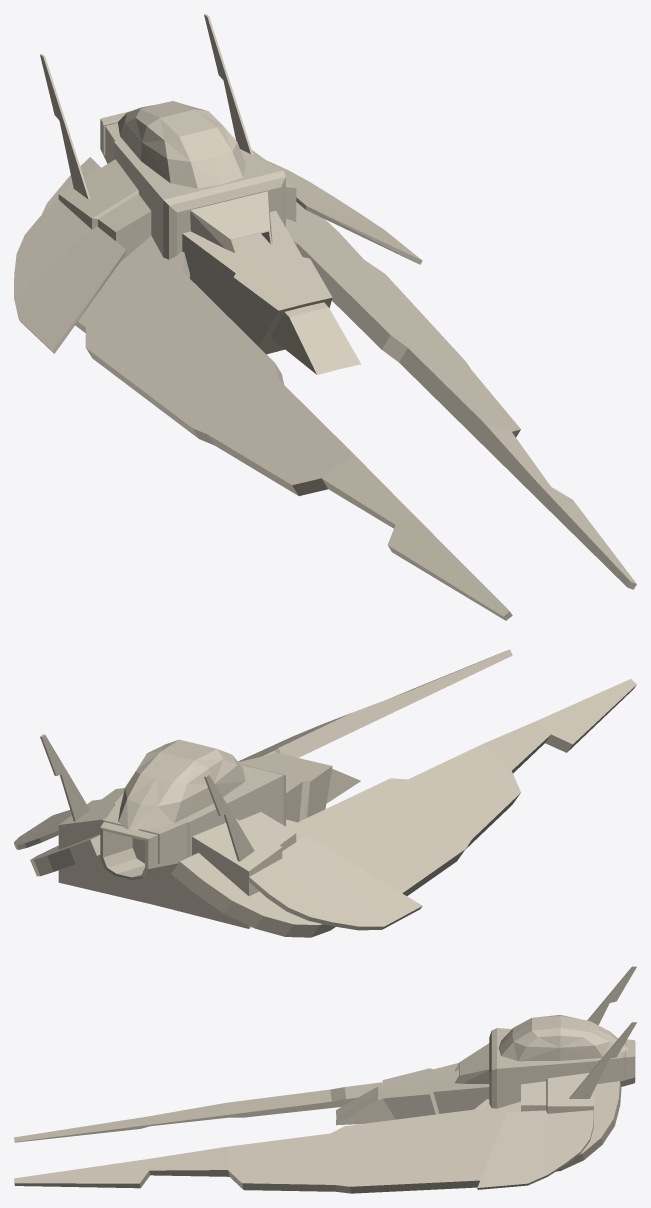
File: ship_dispatcher.glb
The picture shows the model from 3 angles, top to bottom: view 1: azimuth 30°, elevation 25°; view 2: azimuth 150°, elevation 25°; view 3: azimuth 270°, elevation 25°; orthographic projection. The views are drawn at different scales.
Parts seen in each view (by area): view 1: S_Dispatcher; view 2: S_Dispatcher; view 3: S_Dispatcher.
Boxes of the visible parts, x1,y1,x2,y2 form: S_Dispatcher: (14, 14, 636, 620); S_Dispatcher: (14, 649, 636, 937); S_Dispatcher: (14, 966, 636, 1193).
Bounding box in the file's own units: 4.9 × 3.09 × 10.26.
